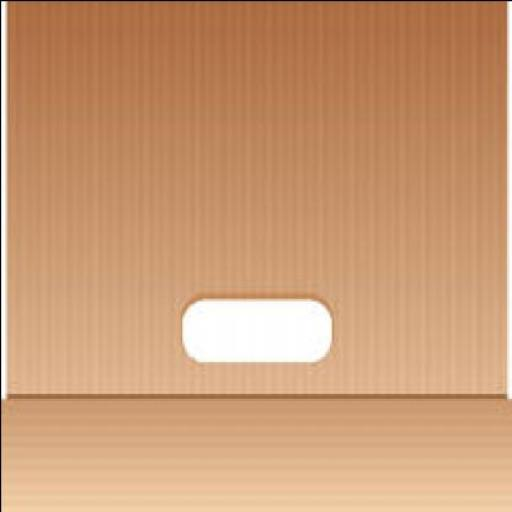cardboard: (2, 2, 510, 398), (1, 398, 512, 510)
